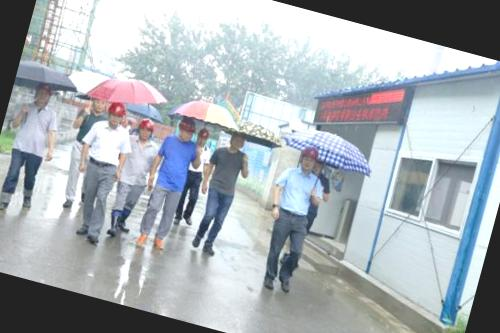no_helmet: (226, 128, 250, 154), (87, 90, 108, 114)
